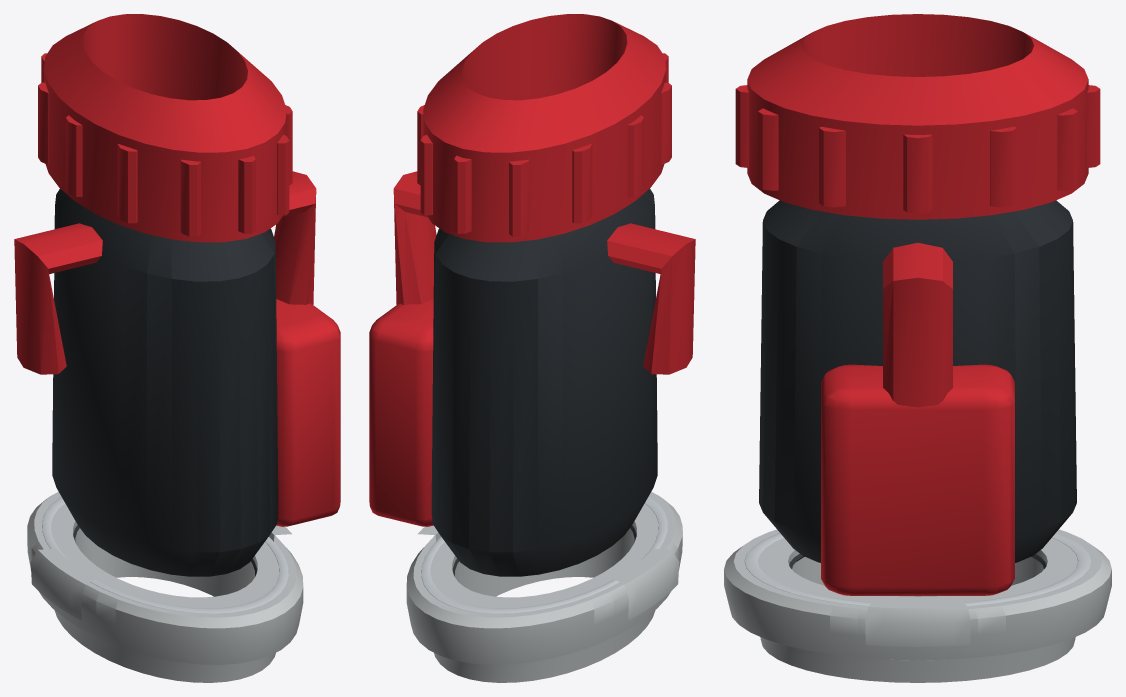
Rendered from ob_branch_nozzle.glb.
3 renders of one model, left to right at view 1: azimuth 30°, elevation 25°; view 2: azimuth 150°, elevation 25°; view 3: azimuth 270°, elevation 25°, orthographic. The views are drawn at different scales.
Parts seen in each view (by area): view 1: ob_branch_nozzle; view 2: ob_branch_nozzle; view 3: ob_branch_nozzle.
Boxes of the visible parts, bbox=[...] form: ob_branch_nozzle: bbox=[14, 14, 340, 682]; ob_branch_nozzle: bbox=[369, 14, 695, 682]; ob_branch_nozzle: bbox=[724, 14, 1111, 682].
Bounding box in the file's own units: 0.23 × 0.44 × 0.26.
